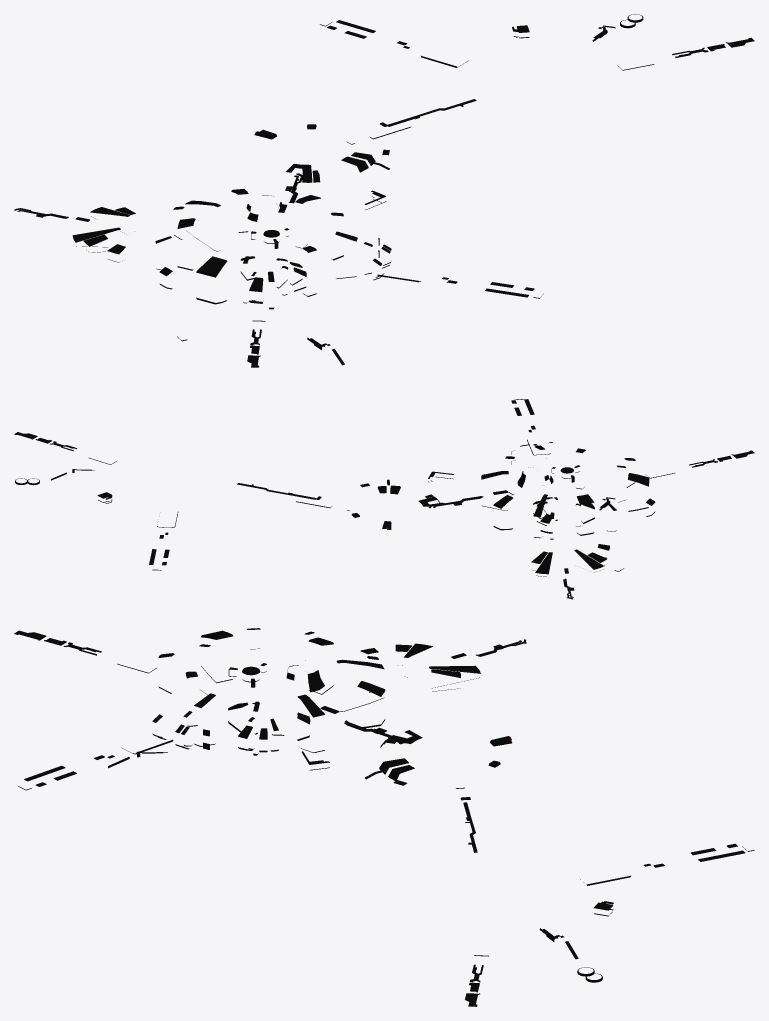
Rendered from ama_structure_01.glb.
3 views of the same model, one above another, from view 1: azimuth 30°, elevation 25°; view 2: azimuth 150°, elevation 25°; view 3: azimuth 270°, elevation 25° (orthographic). The views are drawn at different scales.
Parts seen in each view (by area): view 1: ama_ruin_parts_LOD0; view 2: ama_ruin_parts_LOD0; view 3: ama_ruin_parts_LOD0.
Boxes of the visible parts, x1,y1,x2,y2 form: ama_ruin_parts_LOD0: (14,14,754,367); ama_ruin_parts_LOD0: (14,399,754,599); ama_ruin_parts_LOD0: (14,628,754,1006).
Size of what is drawn, in the model's own units: 31.97 by 4.55 by 26.17.
Materials: 1 (1 with a texture image).
